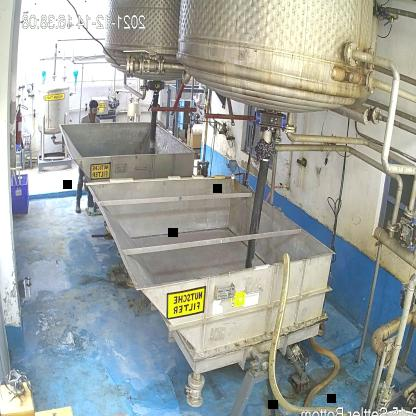shoes: (73, 199, 82, 215)
